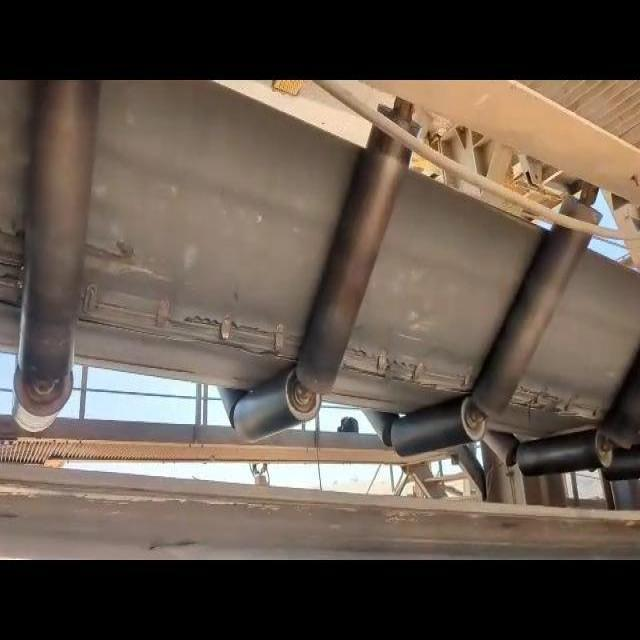Tear: (78, 282, 306, 366), (328, 330, 480, 404), (511, 377, 614, 426), (0, 228, 30, 308)
Wear: (79, 227, 175, 282)
